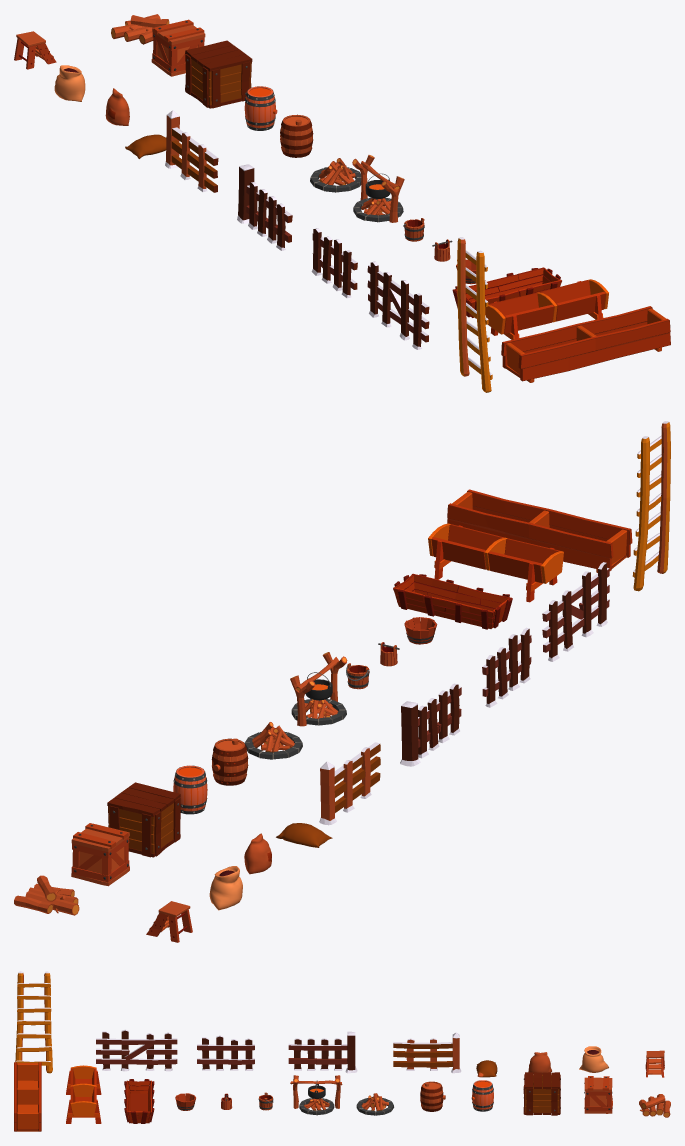
Rendered from low_poly_medieval_village_props.glb.
3 views of the same model, one above another, from view 1: azimuth 30°, elevation 25°; view 2: azimuth 150°, elevation 25°; view 3: azimuth 270°, elevation 25° (orthographic). The views are drawn at different scales.
Parts seen in each view (by area): view 1: Item10, Item11, Item20, Item1, Item2, Item4, Item5, Item16, Item21, Item12, Item3, Item18 (+7 smaller); view 2: Item10, Item11, Item20, Item12, Item1, Item2, Item4, Item21, Item5, Item16, Item3, Item22 (+7 smaller); view 3: Item2, Item1, Item10, Item4, Item5, Item11, Item20, Item3, Item12, Item16, Item21, Item18 (+8 smaller).
Part boxes in pixels (<box>): Item10: <box>501,306,670,382</box>; Item11: <box>485,279,608,339</box>; Item20: <box>185,40,252,108</box>; Item1: <box>457,237,492,392</box>; Item2: <box>367,261,429,349</box>; Item4: <box>237,164,292,250</box>; Item5: <box>165,110,218,192</box>; Item16: <box>352,155,404,222</box>; Item21: <box>151,19,205,76</box>; Item12: <box>452,267,561,318</box>; Item3: <box>311,228,357,298</box>; Item18: <box>280,114,313,157</box>; Item10: <box>447,489,632,572</box>; Item11: <box>428,523,563,602</box>; Item20: <box>107,782,180,857</box>; Item12: <box>393,573,512,629</box>; Item1: <box>632,421,670,591</box>; Item2: <box>542,562,609,661</box>; Item4: <box>400,683,461,766</box>; Item21: <box>71,823,129,886</box>; Item5: <box>319,742,380,825</box>; Item16: <box>290,652,347,726</box>; Item3: <box>482,627,531,707</box>; Item22: <box>14,875,79,915</box>; Item2: <box>96,1029,177,1071</box>; Item1: <box>15,971,52,1073</box>; Item10: <box>14,1062,41,1131</box>; Item4: <box>288,1031,357,1073</box>; Item5: <box>393,1032,461,1073</box>; Item11: <box>66,1065,101,1123</box>; Item20: <box>523,1072,560,1115</box>; Item3: <box>197,1035,254,1070</box>; Item12: <box>124,1079,154,1123</box>; Item16: <box>290,1075,342,1115</box>; Item21: <box>584,1076,612,1113</box>; Item18: <box>420,1081,445,1111</box>.
Size of what is drawn, in the model's own units: 2.89 by 1.91 by 11.39.
1 material, 1 textured.
